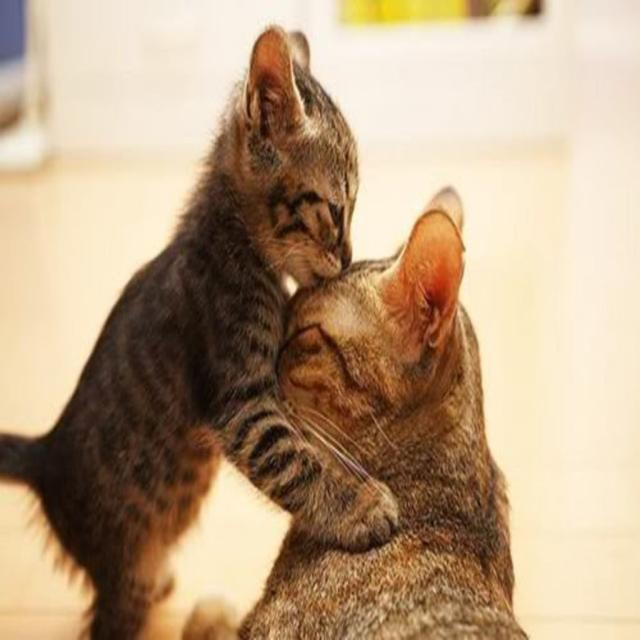Cat: (0, 22, 400, 639), (181, 182, 528, 639)
